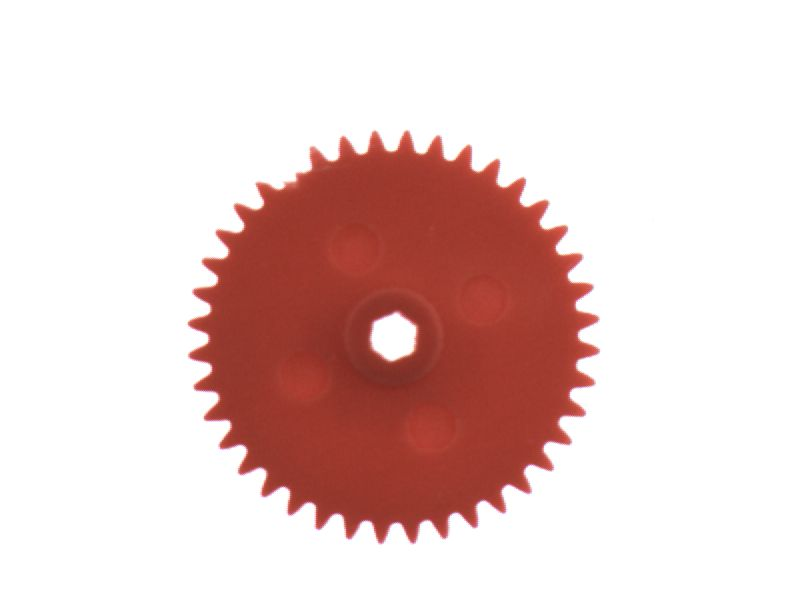defect_lack: (265, 150, 318, 197)
